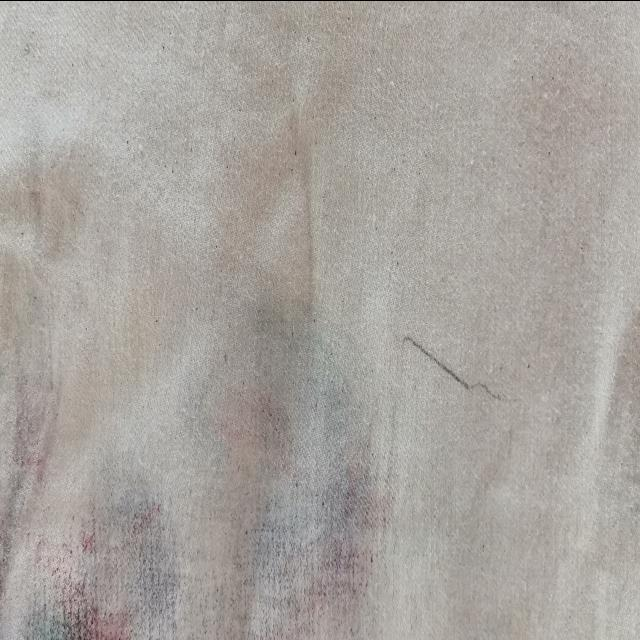taaaches: (0, 212, 371, 640), (396, 307, 506, 421)
